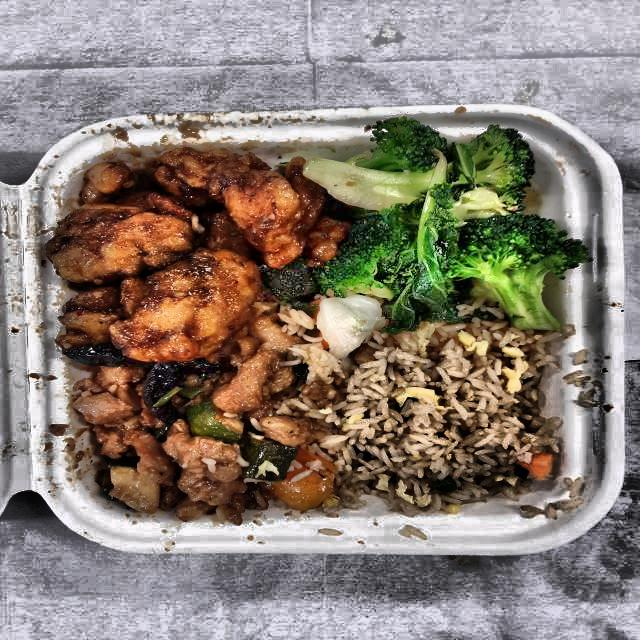Food: (33, 136, 330, 370), (310, 116, 593, 344), (50, 336, 358, 530), (299, 317, 568, 514)
